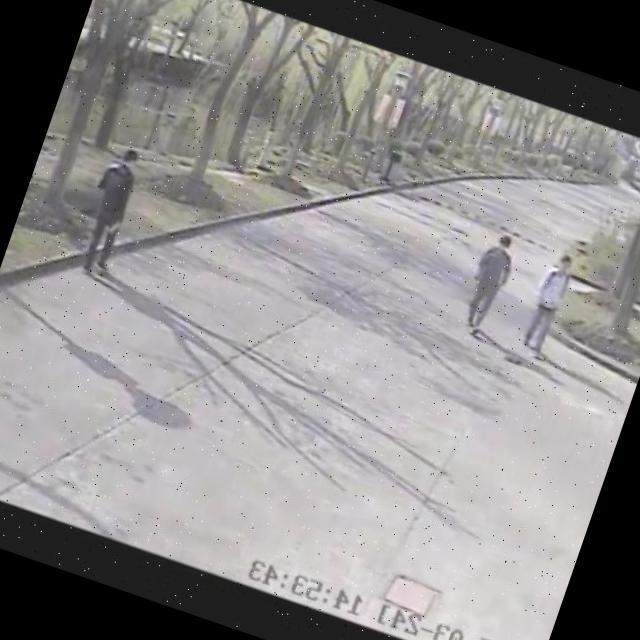person: (53, 128, 166, 304), (441, 216, 531, 344), (506, 245, 592, 372)
